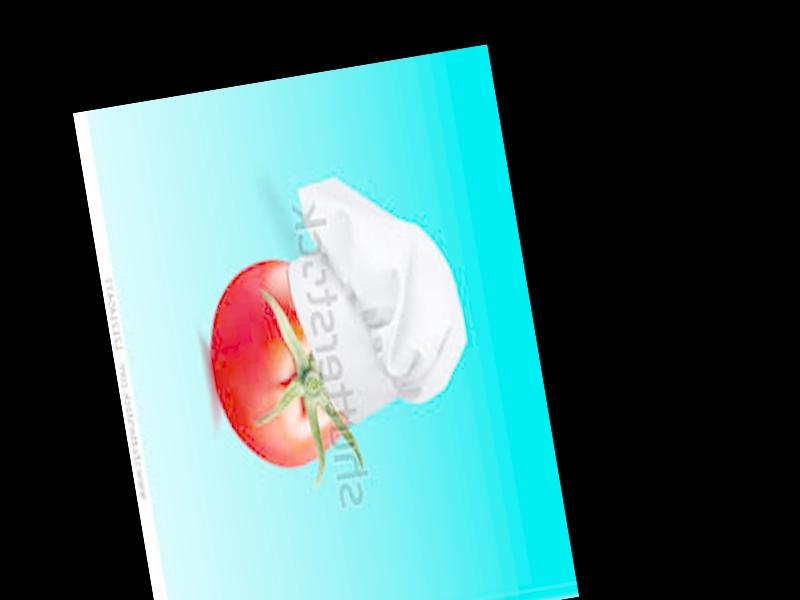Tomato: (197, 251, 355, 474)
